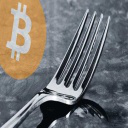fork: (27, 8, 112, 128)
